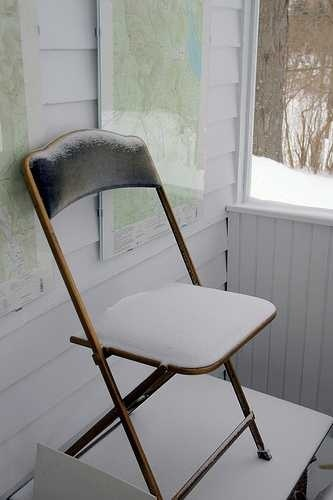obstacle: (23, 129, 276, 499)
